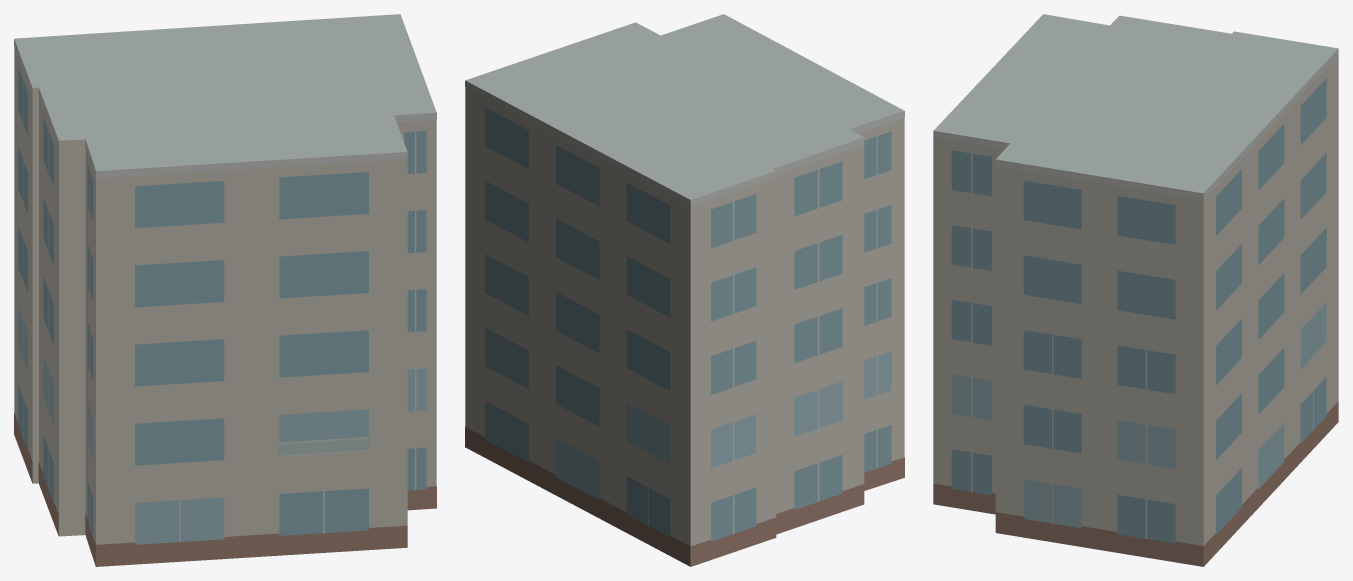
The model's file is survey-upis-32876786.glb.
3 renders of one model, left to right at view 1: azimuth 30°, elevation 25°; view 2: azimuth 150°, elevation 25°; view 3: azimuth 270°, elevation 25°, orthographic. The views are drawn at different scales.
Parts seen in each view (by area): view 1: survey-upis-32876786.tmp; view 2: survey-upis-32876786.tmp; view 3: survey-upis-32876786.tmp.
Part boxes in pixels (x1,y1,x2,y2): survey-upis-32876786.tmp: (14,14,436,566); survey-upis-32876786.tmp: (465,14,904,566); survey-upis-32876786.tmp: (933,14,1338,566).
Size of the model in its own units: 13.7 by 13.3 by 13.08.
